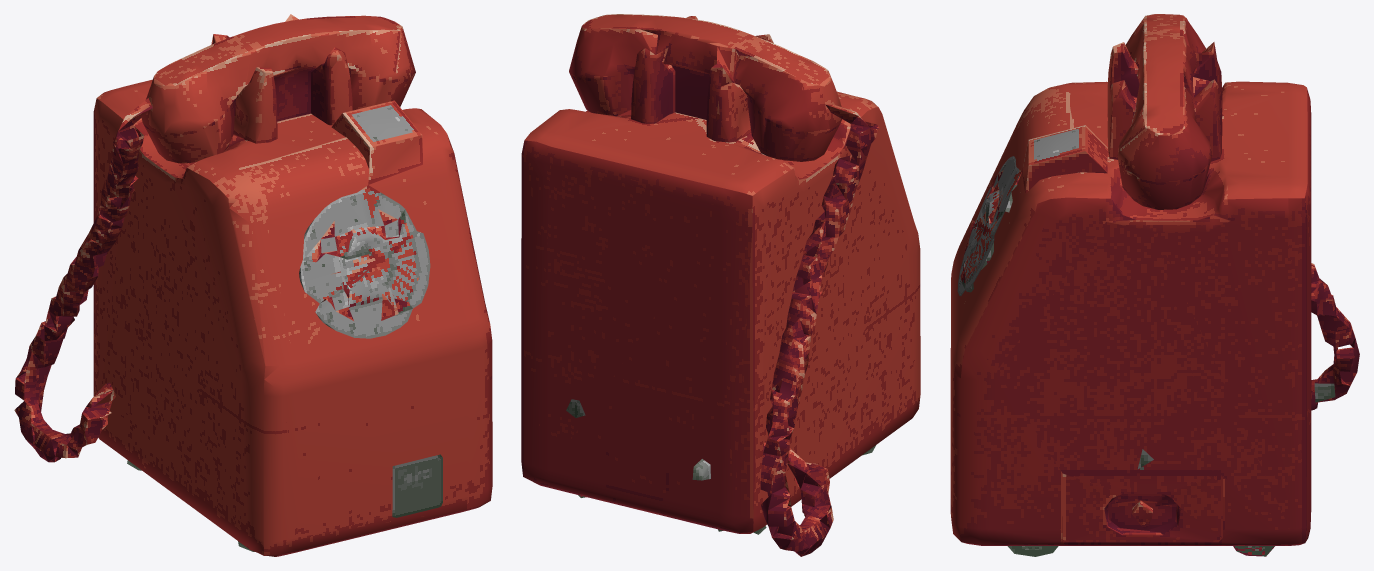
Rendered from payphone_red.glb.
3 views of the same model, side by side, from view 1: azimuth 30°, elevation 25°; view 2: azimuth 150°, elevation 25°; view 3: azimuth 270°, elevation 25° (orthographic). The views are drawn at different scales.
Visible parts, largest first — view 1: mesh; view 2: mesh; view 3: mesh.
Boxes of the visible parts, x1=… form: mesh: x1=14, y1=14, x2=492, y2=556; mesh: x1=521, y1=14, x2=920, y2=556; mesh: x1=950, y1=14, x2=1359, y2=556.
Size of the model in its own units: 0.2185 by 0.3 by 0.2457.
Materials: 1 (1 with a texture image).
